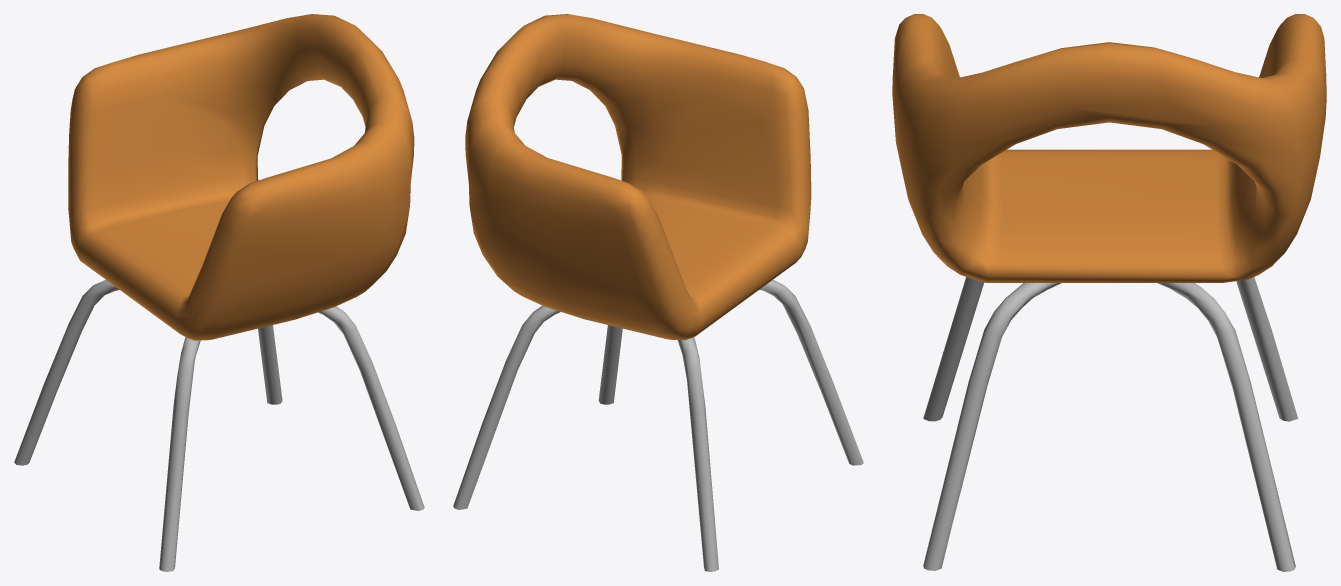
Rendered from chair_05_orange.fbx.
3 views of the same model, side by side, from view 1: azimuth 30°, elevation 25°; view 2: azimuth 150°, elevation 25°; view 3: azimuth 270°, elevation 25° (orthographic). The views are drawn at different scales.
Parts seen in each view (by area): view 1: chair_05_orange; view 2: chair_05_orange; view 3: chair_05_orange.
Boxes of the visible parts, x1,y1,x2,y2 form: chair_05_orange: (14, 14, 424, 571); chair_05_orange: (453, 14, 863, 571); chair_05_orange: (892, 14, 1326, 571).
Size of the model in its own units: 55.24 by 81.65 by 61.21.
2 materials, 2 textured.
